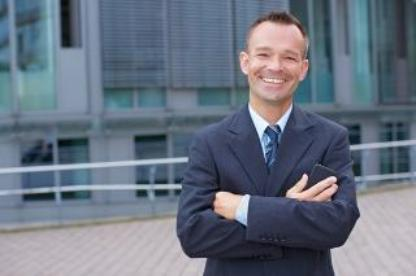person: (169, 6, 367, 276)
